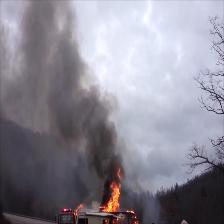fire: (108, 182, 122, 210)
smoke: (42, 61, 90, 132), (88, 140, 116, 174)
